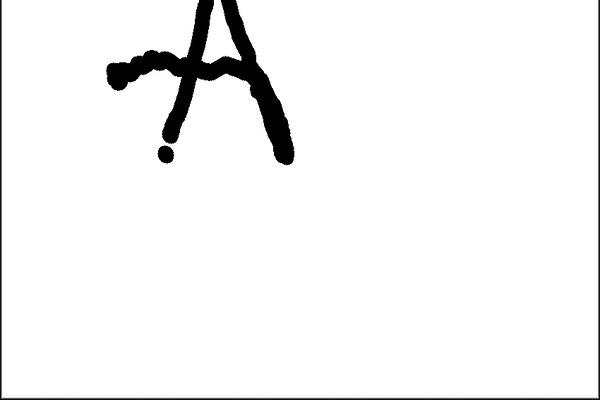A: (110, 0, 313, 181)
